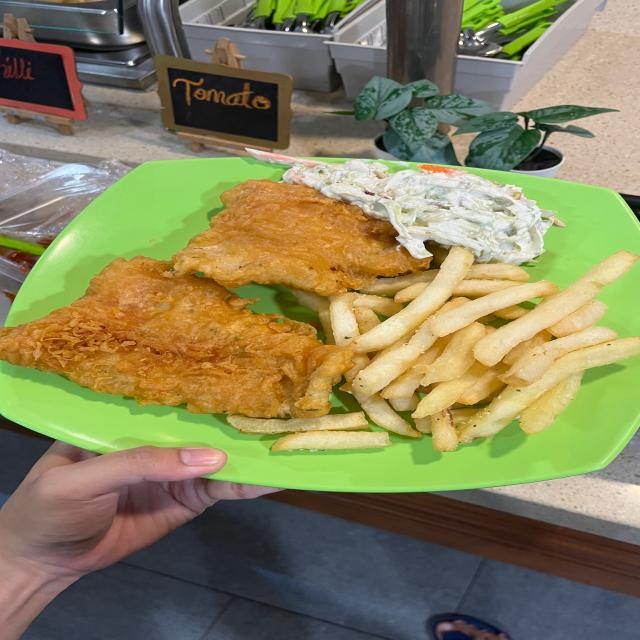Fish: (0, 180, 432, 418)
Non green veg: (282, 160, 555, 265), (284, 242, 294, 249)
Potato: (228, 248, 640, 451)
